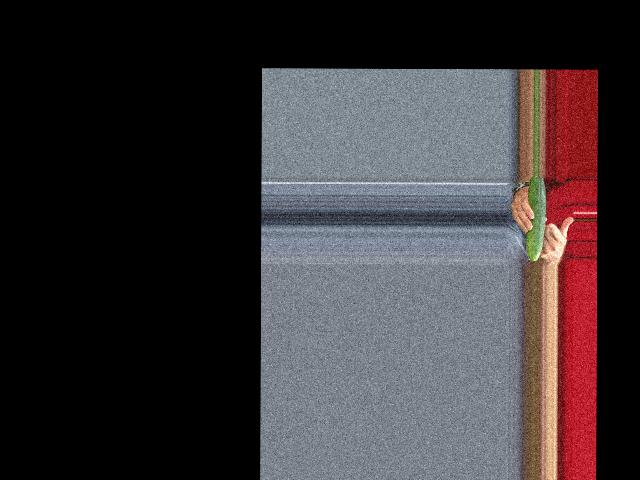cucumber: (525, 175, 546, 261)
